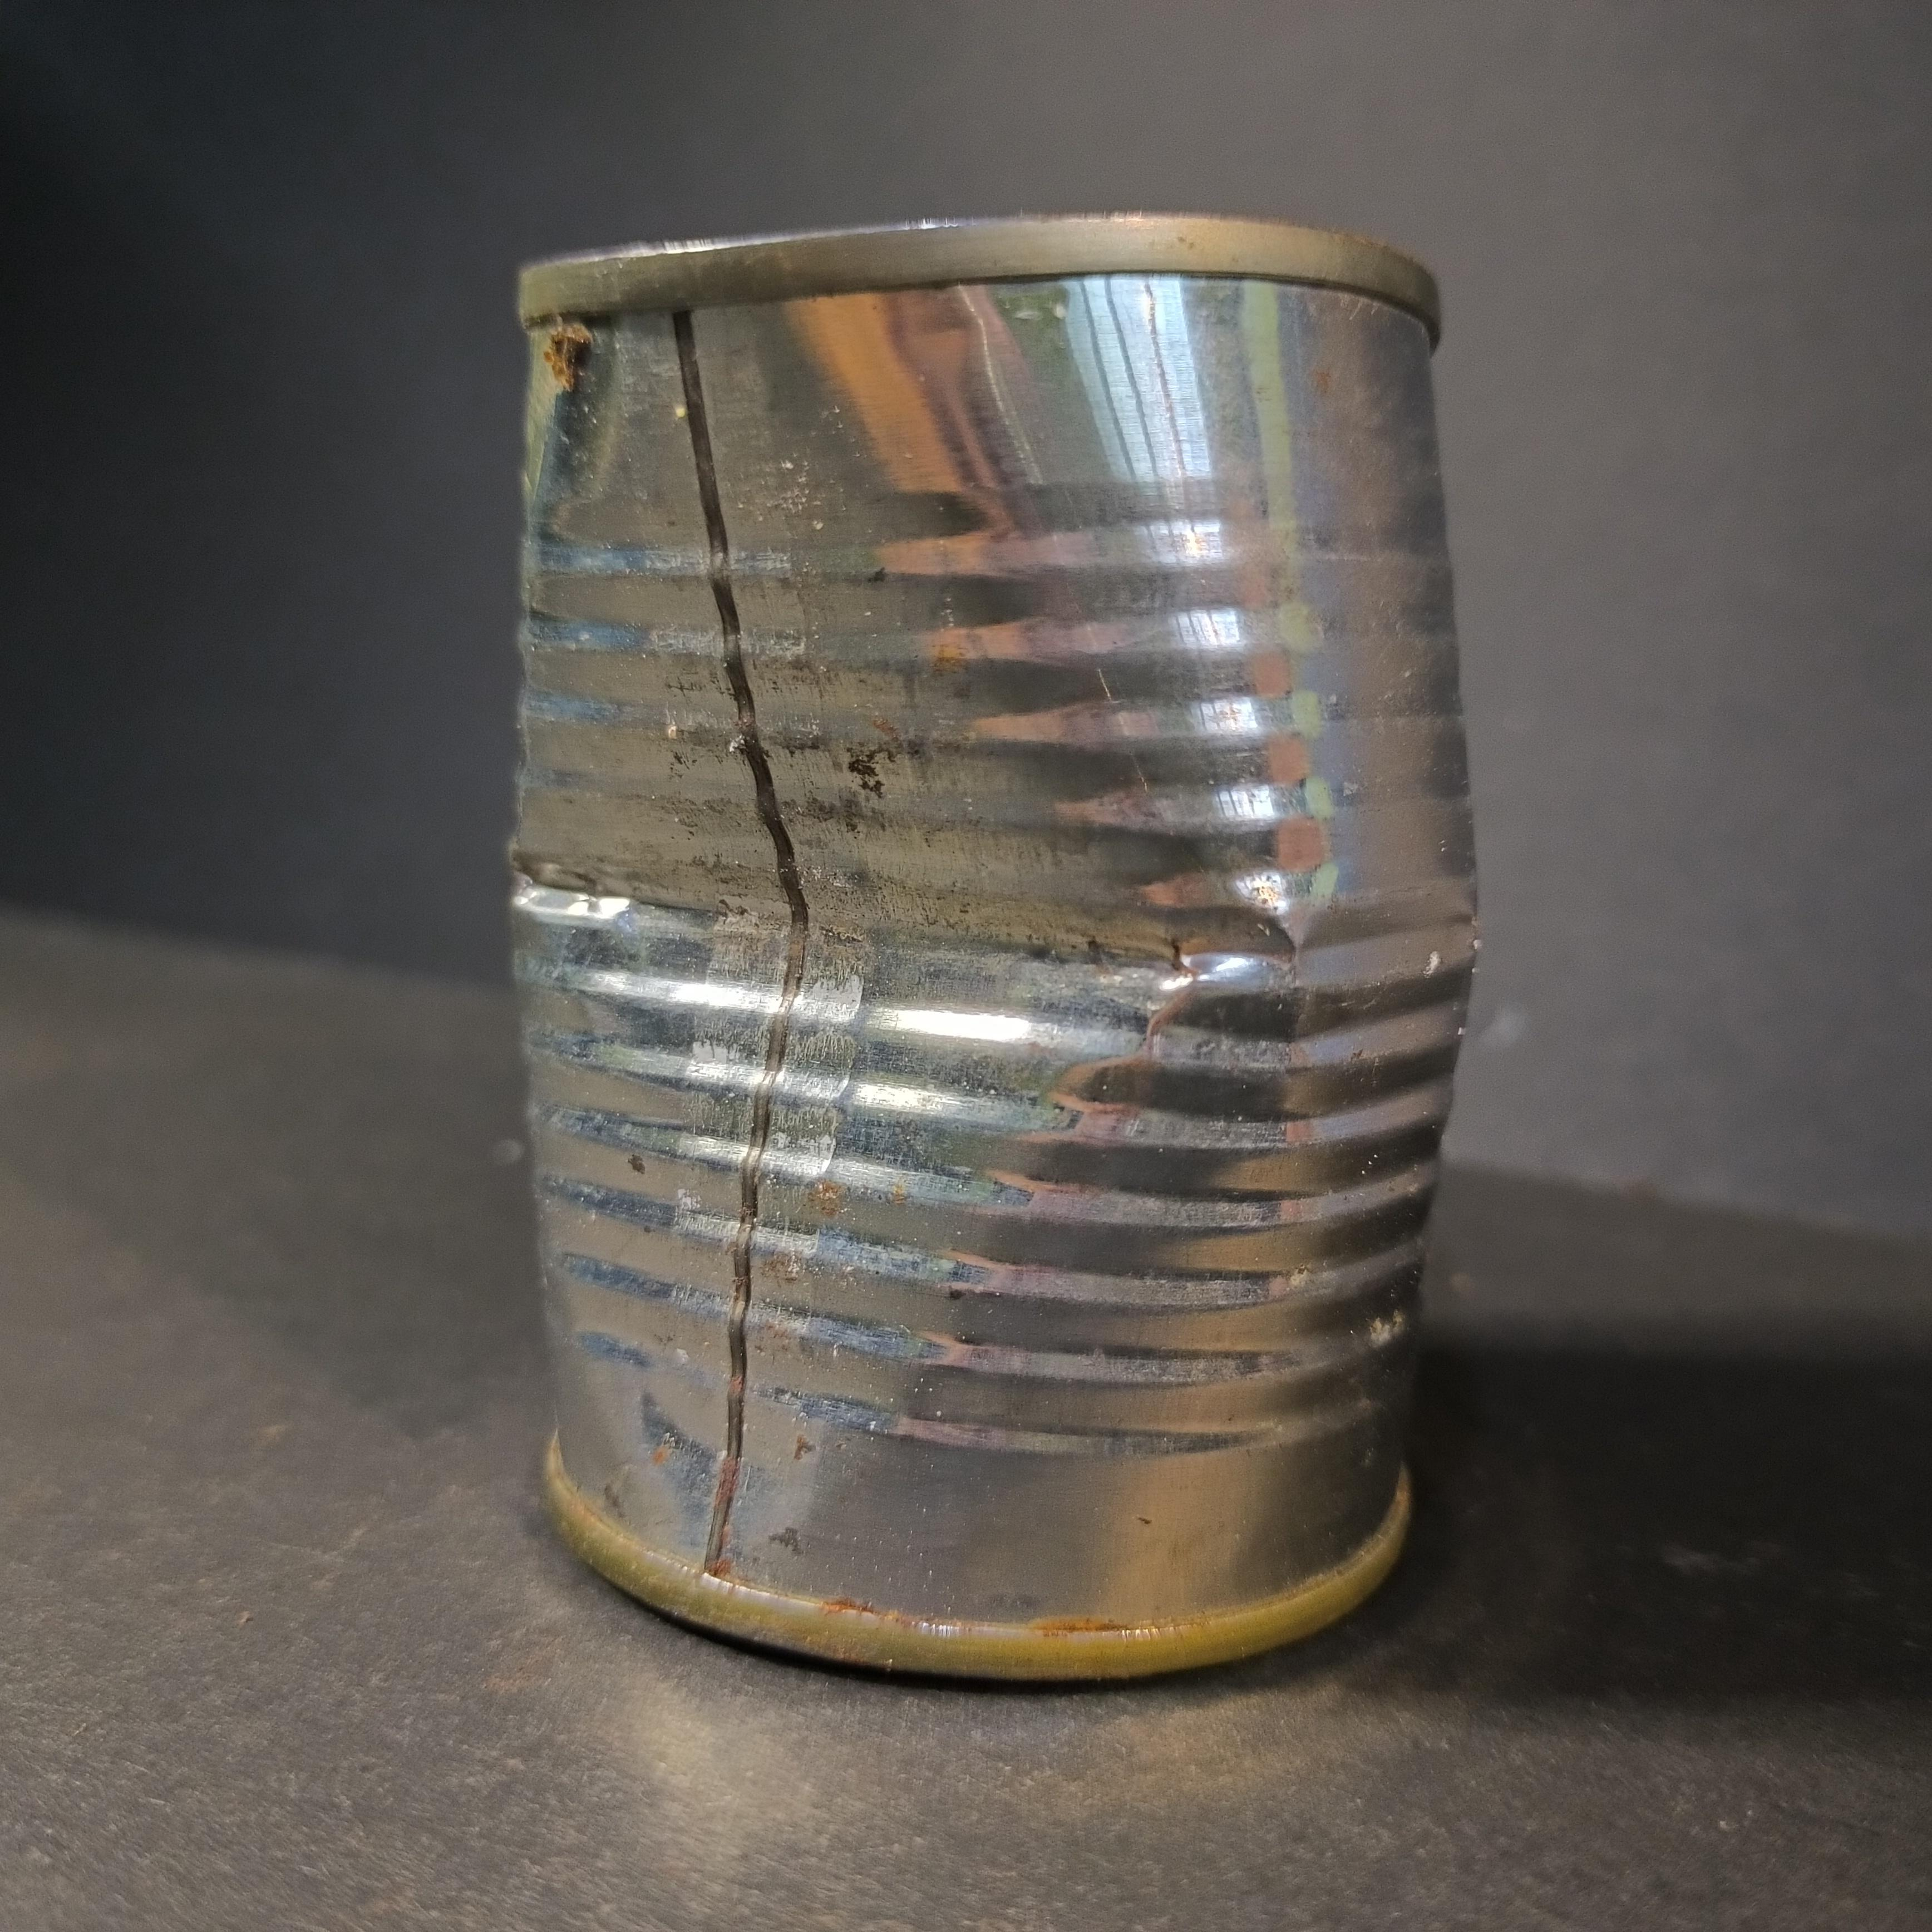Dented: (471, 186, 1497, 1725)
